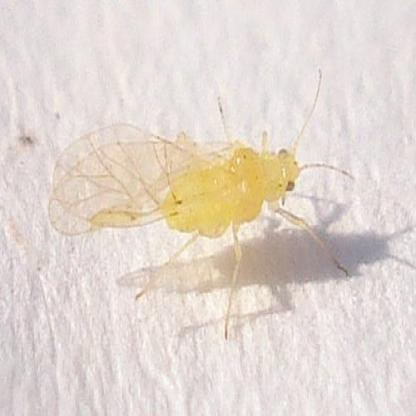aphid: (46, 69, 354, 331)
